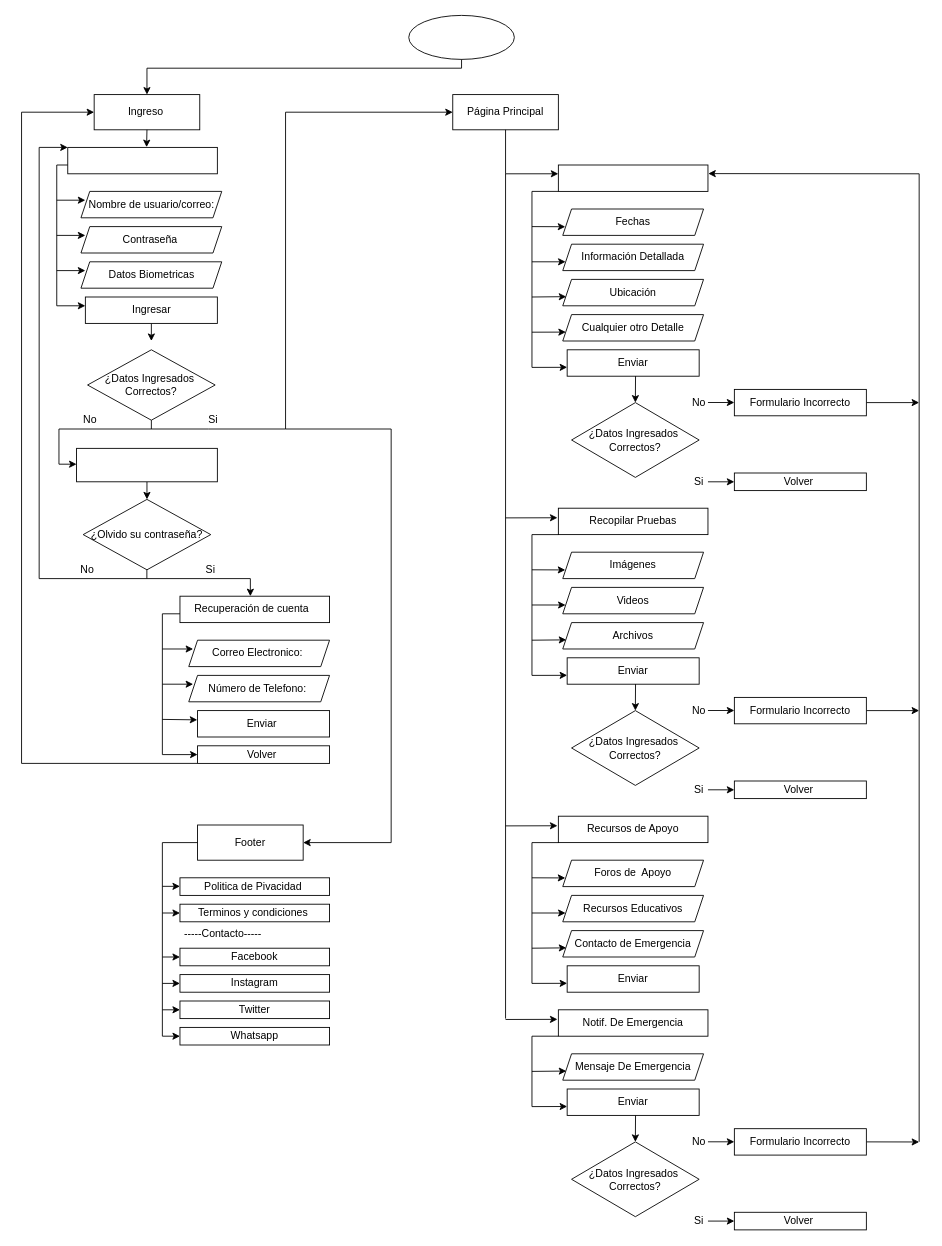
Image size: 942x1246. Some labels were removed from this diagram. The box of each missing label's shape, as (x1, y1, x2, y2) in pixels:
Autenticacion de Usuario: (67, 147, 217, 174)
IncryptedBox: (408, 15, 514, 59)
Mensaje de error: (76, 447, 217, 482)
Te escuchamos: (557, 164, 708, 191)
